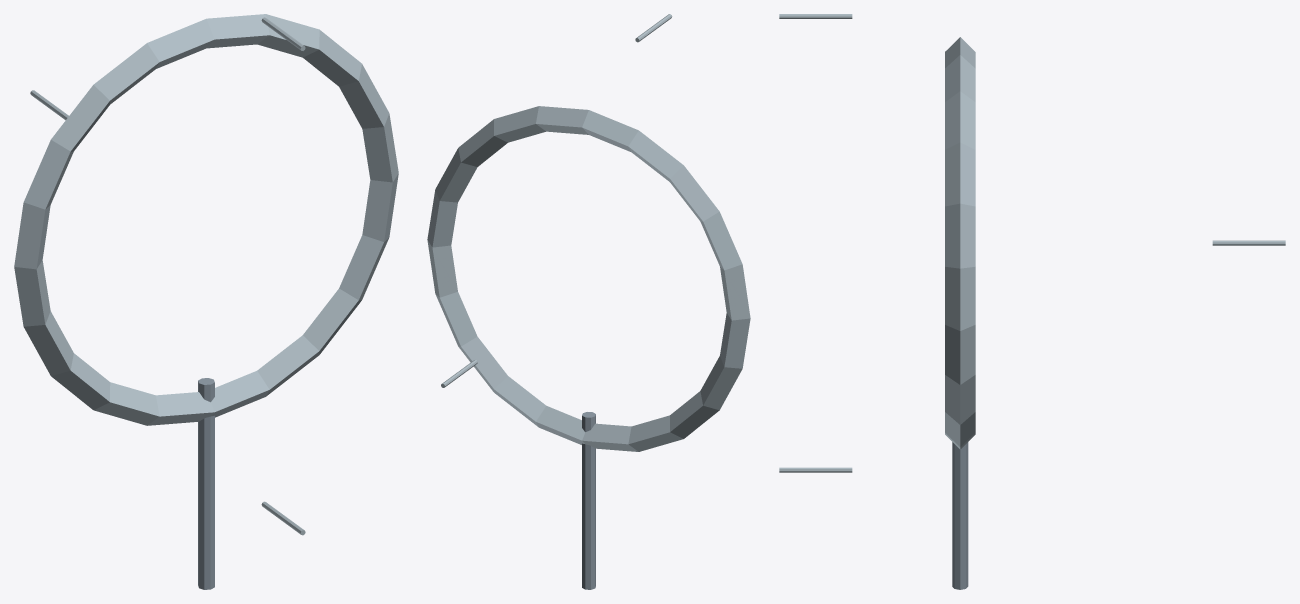
File: Tool_BasicNet.fbx
3 renders of one model, left to right at view 1: azimuth 30°, elevation 25°; view 2: azimuth 150°, elevation 25°; view 3: azimuth 270°, elevation 25°, orthographic. The views are drawn at different scales.
Visible parts, largest first — view 1: Net_Ring, Net_Handle; view 2: Net_Ring, Net_Handle; view 3: Net_Ring, Net_Handle.
Boxes of the visible parts, left/top/right/bottom form: Net_Ring: left=14, top=14, right=398, bottom=425; Net_Handle: left=198, top=378, right=214, bottom=589; Net_Ring: left=427, top=106, right=750, bottom=451; Net_Handle: left=582, top=412, right=595, bottom=589; Net_Ring: left=945, top=37, right=975, bottom=449; Net_Handle: left=952, top=442, right=968, bottom=589.
Bounding box in the file's own units: 130 × 197 × 158.
